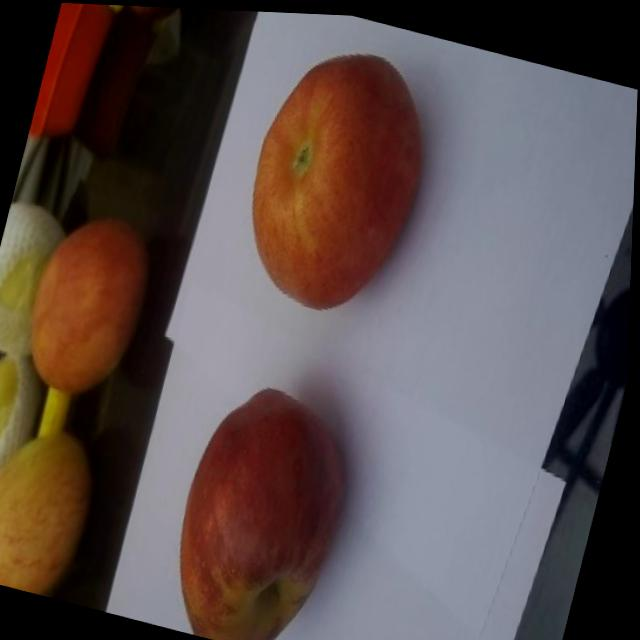Apple: (222, 21, 452, 326), (153, 363, 386, 640), (13, 201, 166, 415), (0, 412, 113, 602)
